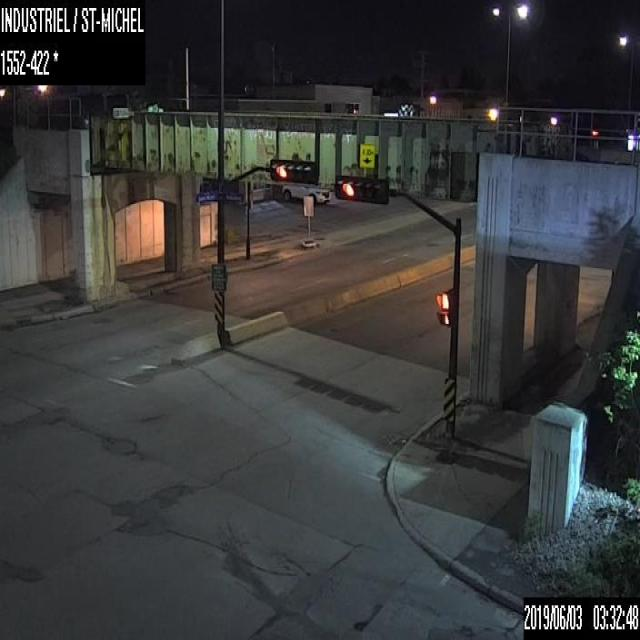vehicle: (282, 183, 331, 202)
